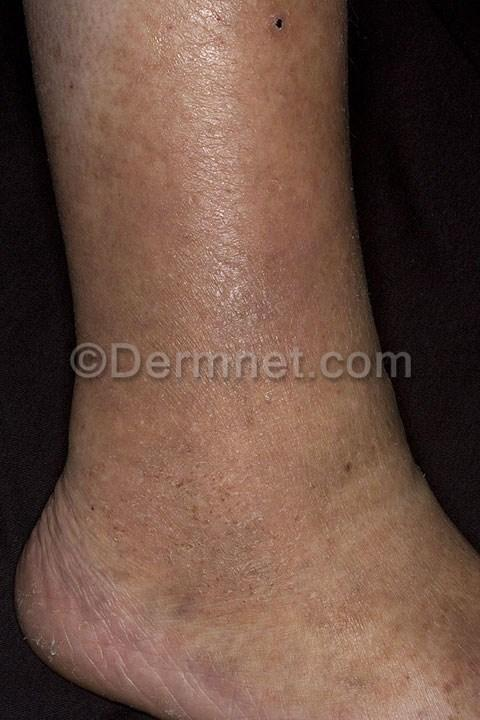Eczema: (83, 385, 389, 712), (83, 41, 363, 351)
